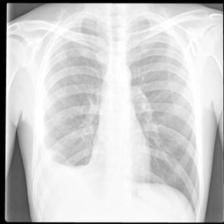tuberculosis: (31, 12, 206, 222)
